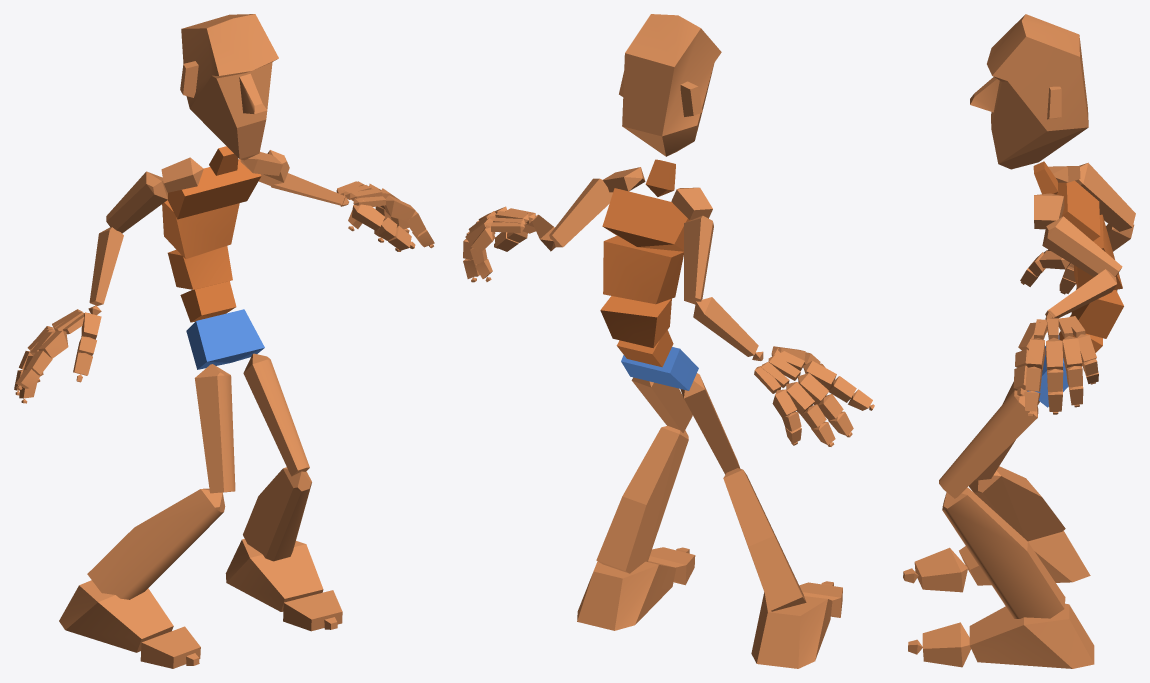
3 views of the same model, side by side, from view 1: azimuth 30°, elevation 25°; view 2: azimuth 150°, elevation 25°; view 3: azimuth 270°, elevation 25° (orthographic). The views are drawn at different scales.
Visible parts, largest first — view 1: BOPED_Head, BOPED_R_leg, BOPED_R_foot, BOPED_R_foot01, BOPED_L_leg, BOPED_R_legup, BOPED_L_legup, Bone01, Bone04, Bone05, Bone03, BOPED_R_arm_upper (+7 smaller); view 2: BOPED_Head, BOPED_L_leg, BOPED_R_foot01, BOPED_R_leg, BOPED_R_foot, Bone04, Bone05, Bone03, BOPED_R_legup, BOPED_R_arm_upper, BOPED_L_arm_upper, Bone01 (+8 smaller); view 3: BOPED_Head, BOPED_L_leg, BOPED_R_foot01, BOPED_L_legup, BOPED_R_leg, BOPED_R_foot, BOPED_L_arm_upper, BOPED_R_foot_toe01, BOPED_R_arm_upper, BOPED_R_foot_toe04, Bone05, Bone03 (+15 smaller).
Part boxes in pixels (x1,y1,x2,y2): BOPED_Head: [180, 14, 278, 160]; BOPED_R_leg: [87, 488, 225, 599]; BOPED_R_foot: [59, 580, 173, 652]; BOPED_R_foot01: [225, 539, 323, 611]; BOPED_L_leg: [243, 467, 311, 561]; BOPED_R_legup: [194, 364, 235, 493]; BOPED_L_legup: [243, 353, 309, 476]; Bone01: [186, 309, 264, 369]; Bone04: [162, 200, 239, 258]; Bone05: [168, 159, 261, 219]; Bone03: [167, 246, 232, 289]; BOPED_R_arm_upper: [106, 171, 167, 233]; BOPED_Head: [619, 14, 721, 156]; BOPED_L_leg: [596, 425, 688, 573]; BOPED_R_foot01: [577, 561, 676, 630]; BOPED_R_leg: [723, 468, 806, 611]; BOPED_R_foot: [751, 592, 832, 668]; Bone04: [603, 236, 683, 304]; Bone05: [602, 188, 690, 251]; Bone03: [600, 296, 671, 348]; BOPED_R_legup: [680, 373, 740, 474]; BOPED_R_arm_upper: [684, 215, 713, 304]; BOPED_L_arm_upper: [549, 178, 612, 247]; Bone01: [621, 347, 698, 390]; BOPED_Head: [970, 14, 1088, 169]; BOPED_L_leg: [942, 487, 1065, 618]; BOPED_R_foot01: [969, 603, 1094, 668]; BOPED_L_legup: [939, 390, 1038, 498]; BOPED_R_leg: [969, 466, 1065, 541]; BOPED_R_foot: [959, 530, 1090, 585]; BOPED_L_arm_upper: [1042, 216, 1122, 277]; BOPED_R_foot_toe01: [914, 547, 967, 592]; BOPED_R_arm_upper: [1075, 162, 1135, 231]; BOPED_R_foot_toe04: [922, 622, 970, 667]; Bone05: [1057, 180, 1100, 240]; Bone03: [1071, 287, 1123, 338].
Bounding box in the file's own units: 130 × 178 × 61.66.
